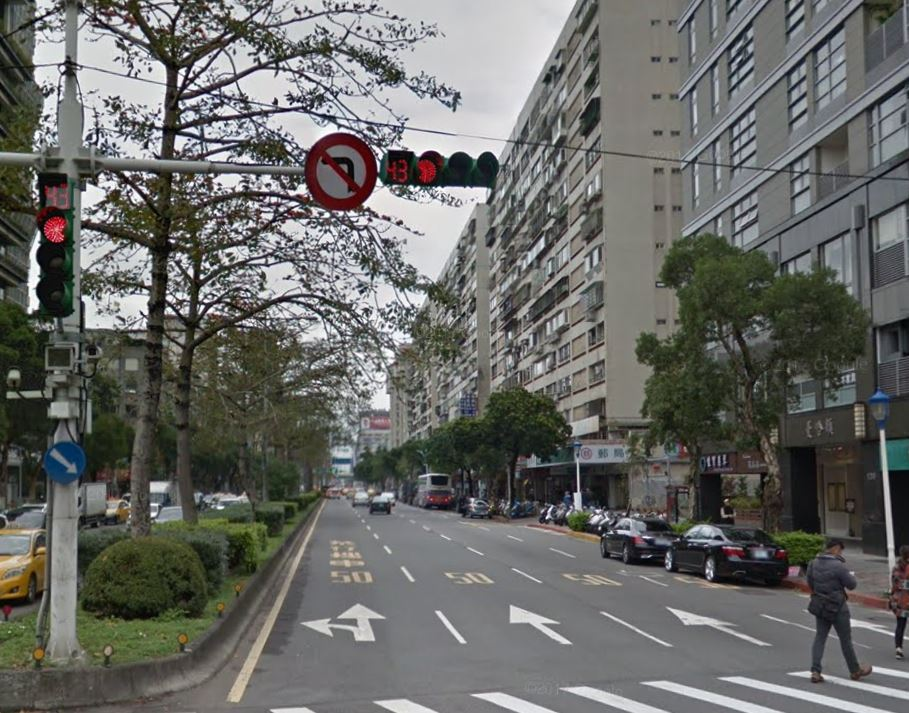No_left_turn: (305, 133, 377, 210)
Traffic_light_red: (381, 150, 499, 188)
